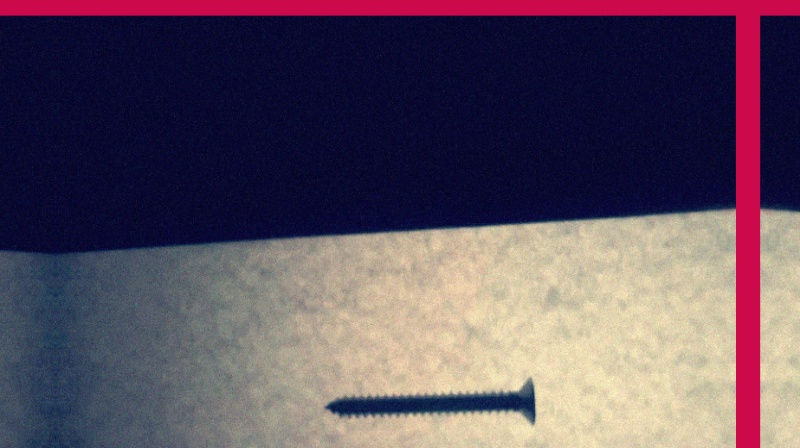S002: (320, 373, 538, 433)
